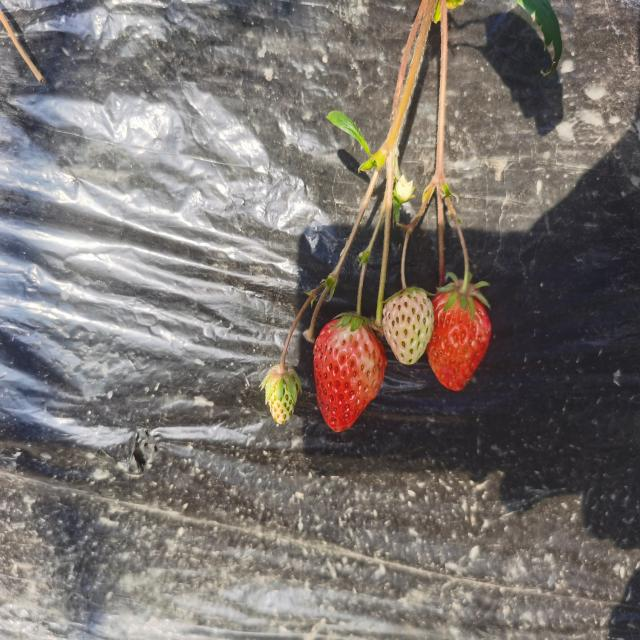stem: (355, 266, 366, 320), (459, 242, 469, 296)
strawberry: (313, 316, 387, 432), (427, 280, 491, 391)
